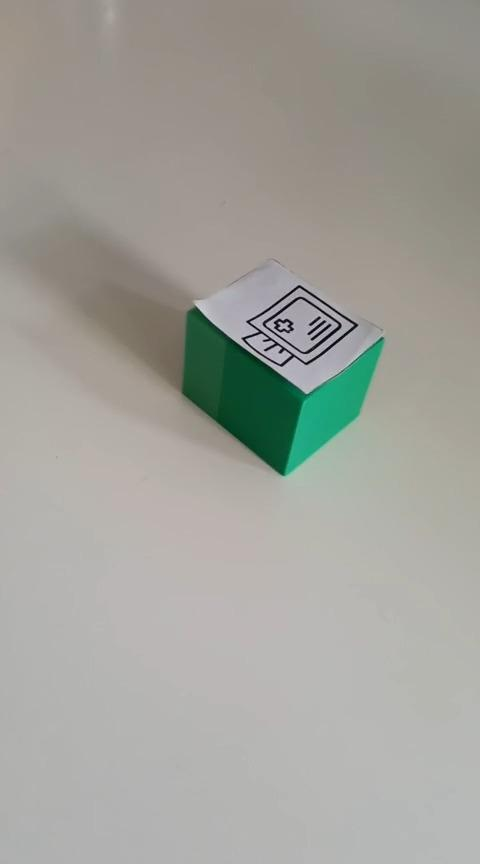Gauze: (180, 256, 385, 477)
